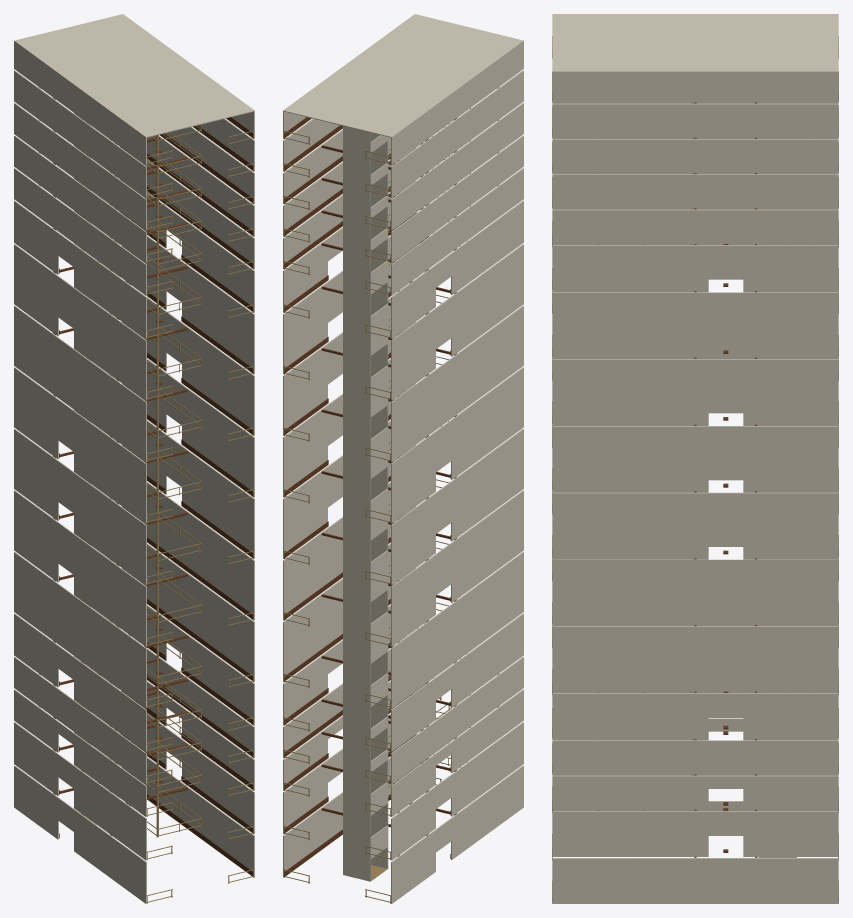
Rendered from AST-CIR-005_aft_crewcare_d03.glb.
3 views of the same model, side by side, from view 1: azimuth 30°, elevation 25°; view 2: azimuth 150°, elevation 25°; view 3: azimuth 270°, elevation 25° (orthographic). The views are drawn at different scales.
Parts seen in each view (by area): view 1: CORE_BATCH_ivory_enamel, CORE_BATCH_champagne_metal, CORE_BATCH_warm_walnut, CORE_OuterWall_01_-1_Solar_Aft, CORE_OuterWall_04_-1_hydration_Aft, CORE_OuterWall_04_1_family_waiting_Aft, CORE_OuterWall_01_1_Inspection_Aft, CORE_OuterWall_02_1_Uniforms_Aft, CORE_OuterWall_04_-1_hydration_Fore, CORE_OuterWall_01_-1_Solar_Fore, CORE_OuterWall_04_1_family_waiting_Fore, CORE_OuterWall_01_1_Inspection_Fore; view 2: CORE_BATCH_ivory_enamel, CORE_BATCH_warm_walnut, CORE_BATCH_champagne_metal, CORE_OuterWall_04_-1_hydration_Aft, CORE_OuterWall_01_-1_Solar_Aft, CORE_OuterWall_01_-1_Solar_Fore, CORE_OuterWall_04_-1_hydration_Fore, CORE_OuterWall_04_1_family_waiting_Fore, CORE_OuterWall_01_1_Inspection_Fore, CORE_OuterWall_02_1_Uniforms_Fore; view 3: CORE_BATCH_ivory_enamel, CORE_OuterWall_01_1_Inspection_Aft, CORE_OuterWall_04_1_family_waiting_Aft, CORE_OuterWall_02_1_Uniforms_Aft, CORE_OuterWall_01_1_Inspection_Fore, CORE_OuterWall_04_1_family_waiting_Fore, CORE_OuterWall_02_1_Uniforms_Fore, CORE_BATCH_champagne_metal, CORE_OuterWall_01_1_Inspection_Header, CORE_OuterWall_04_1_family_waiting_Header.
Part boxes in pixels (x1,y1,x2,y2): CORE_BATCH_ivory_enamel: [14, 14, 254, 903]; CORE_BATCH_champagne_metal: [38, 87, 254, 903]; CORE_BATCH_warm_walnut: [53, 97, 253, 875]; CORE_OuterWall_01_-1_Solar_Aft: [74, 766, 146, 860]; CORE_OuterWall_04_-1_hydration_Aft: [74, 657, 146, 751]; CORE_OuterWall_04_1_family_waiting_Aft: [182, 631, 254, 725]; CORE_OuterWall_01_1_Inspection_Aft: [182, 739, 254, 833]; CORE_OuterWall_02_1_Uniforms_Aft: [182, 707, 254, 790]; CORE_OuterWall_04_-1_hydration_Fore: [14, 613, 58, 687]; CORE_OuterWall_01_-1_Solar_Fore: [14, 722, 58, 795]; CORE_OuterWall_04_1_family_waiting_Fore: [147, 605, 166, 660]; CORE_OuterWall_01_1_Inspection_Fore: [147, 714, 166, 769]; CORE_BATCH_ivory_enamel: [283, 14, 523, 903]; CORE_BATCH_warm_walnut: [284, 117, 456, 875]; CORE_BATCH_champagne_metal: [283, 87, 499, 903]; CORE_OuterWall_04_-1_hydration_Aft: [451, 613, 523, 707]; CORE_OuterWall_01_-1_Solar_Aft: [451, 722, 523, 816]; CORE_OuterWall_01_-1_Solar_Fore: [391, 786, 435, 860]; CORE_OuterWall_04_-1_hydration_Fore: [391, 678, 435, 751]; CORE_OuterWall_04_1_family_waiting_Fore: [283, 651, 327, 725]; CORE_OuterWall_01_1_Inspection_Fore: [283, 760, 327, 833]; CORE_OuterWall_02_1_Uniforms_Fore: [283, 727, 327, 790]; CORE_BATCH_ivory_enamel: [552, 14, 838, 903]; CORE_OuterWall_01_1_Inspection_Aft: [552, 811, 708, 856]; CORE_OuterWall_04_1_family_waiting_Aft: [552, 693, 708, 738]; CORE_OuterWall_02_1_Uniforms_Aft: [552, 775, 708, 809]; CORE_OuterWall_01_1_Inspection_Fore: [743, 811, 838, 856]; CORE_OuterWall_04_1_family_waiting_Fore: [743, 693, 838, 738]; CORE_OuterWall_02_1_Uniforms_Fore: [743, 775, 838, 809]; CORE_BATCH_champagne_metal: [552, 36, 838, 902]; CORE_OuterWall_01_1_Inspection_Header: [708, 811, 743, 835]; CORE_OuterWall_04_1_family_waiting_Header: [708, 693, 743, 717].
Bounding box in the file's own units: 15.76 × 106 × 33.08.
4 materials, 3 textured.
